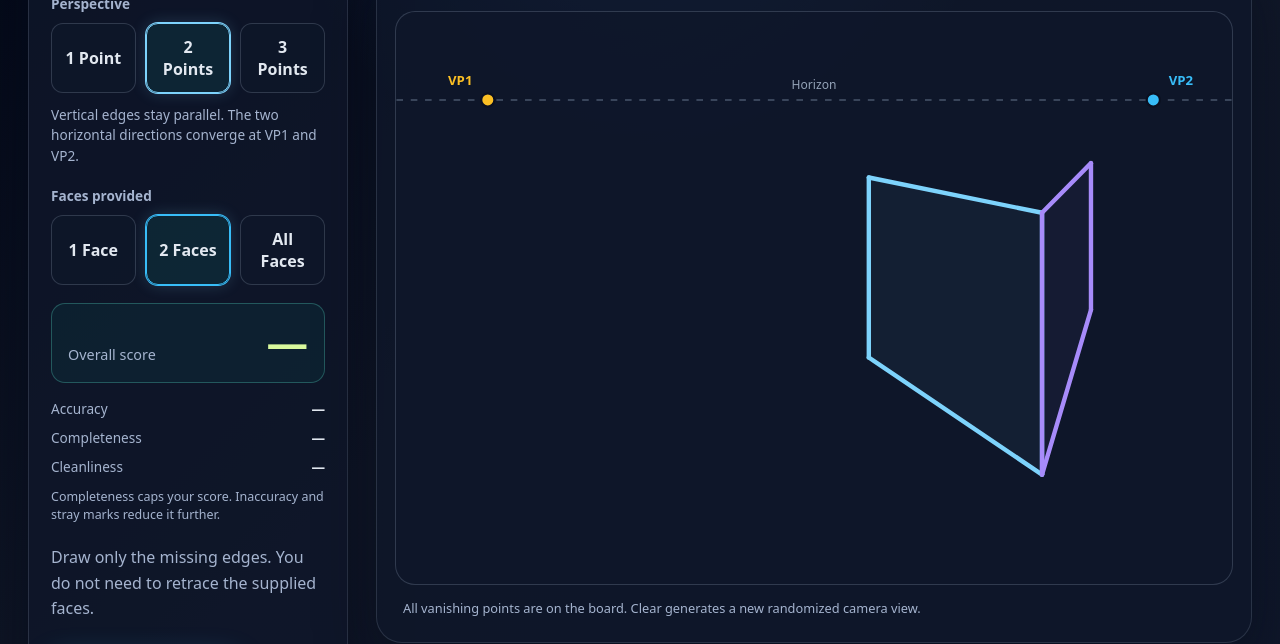
it: submission includes an in-progress stroke and locks the revealed attempt
(page scrolled)
Press the mouse on the drawing named "Drawing canvas" at (814, 298), box [396,12,1232,584]
Press the mouse on the drawing named "Drawing canvas" at (814, 298), box [396,12,1232,584]
(page scrolled)
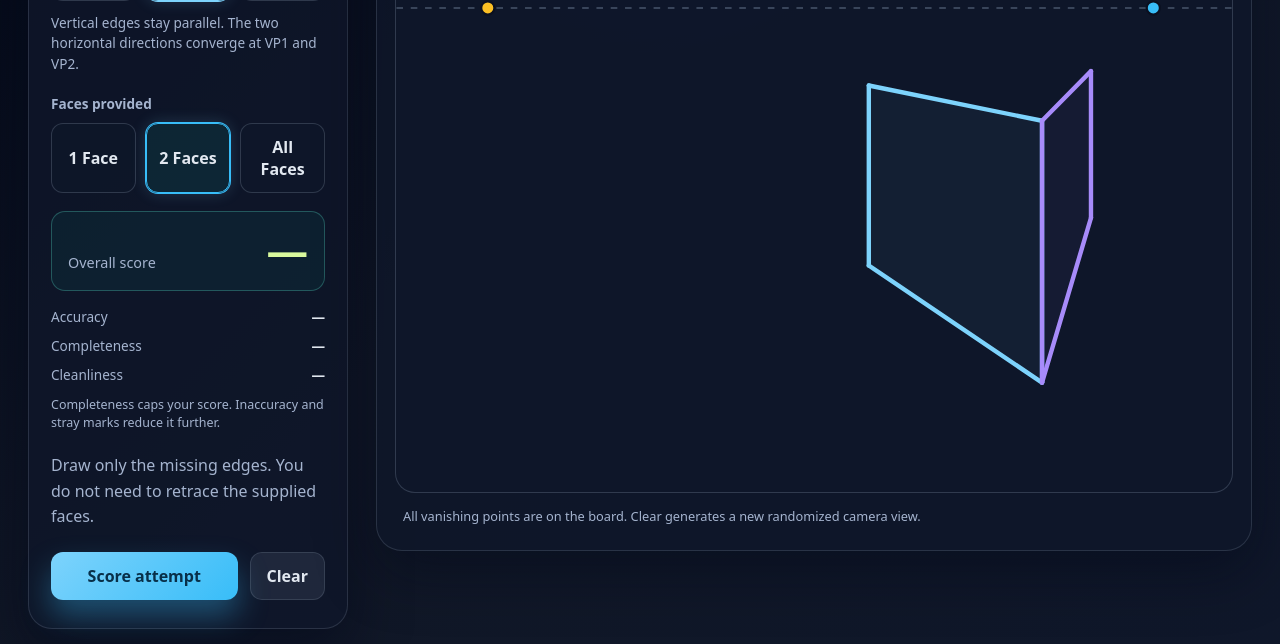
Click the button "Score attempt".
click(144, 576)  # box [51,552,238,600]
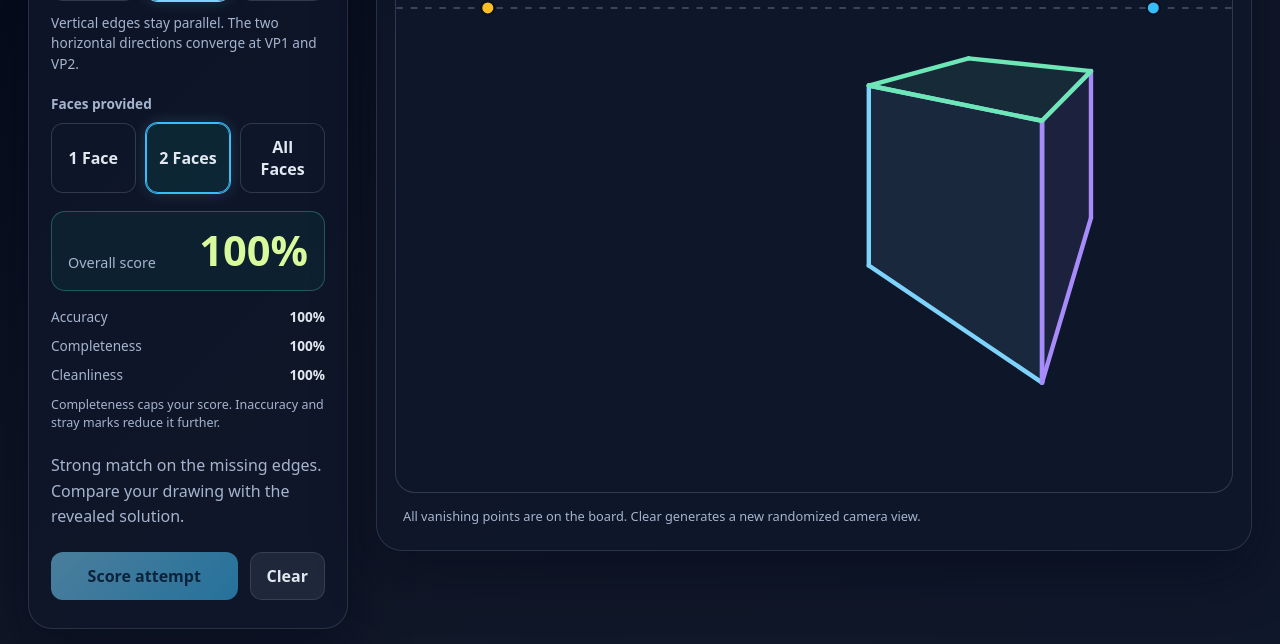
Now the text named "Overall score" reads "100%", box [199,222,308,278]
Now the button "Score attempt" is disabled, box [51,552,238,600]
Click the button "Clear".
click(287, 576)  # box [250,552,325,600]
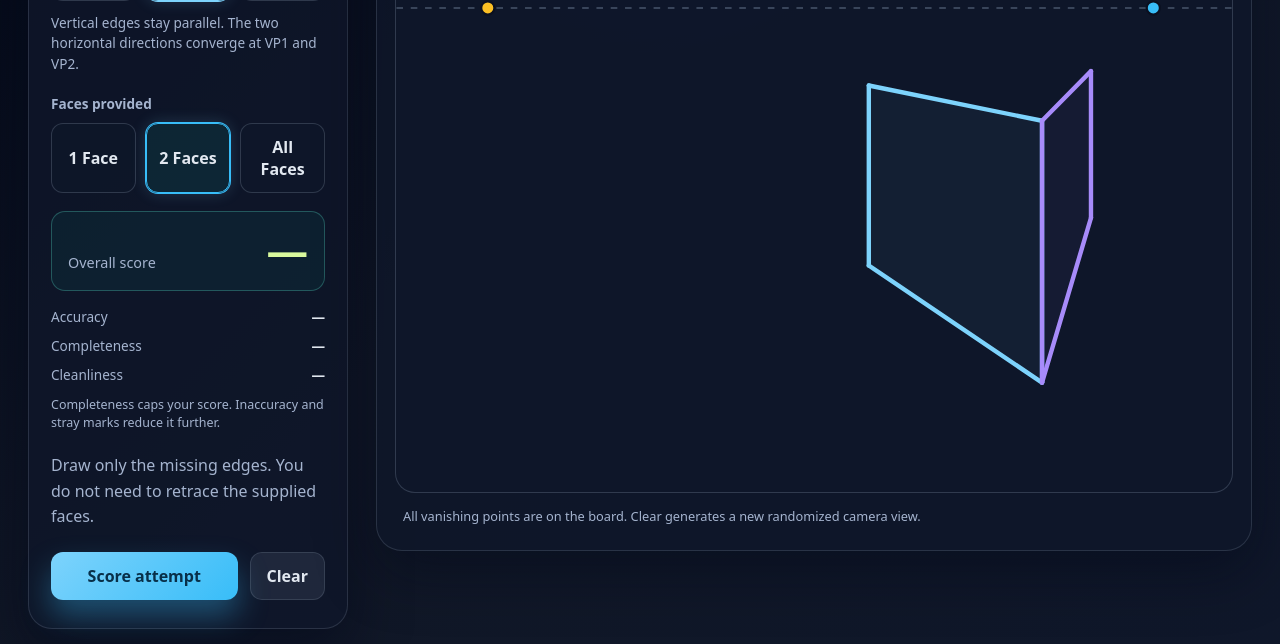
Click the button "Score attempt".
click(144, 576)  # box [51,552,238,600]
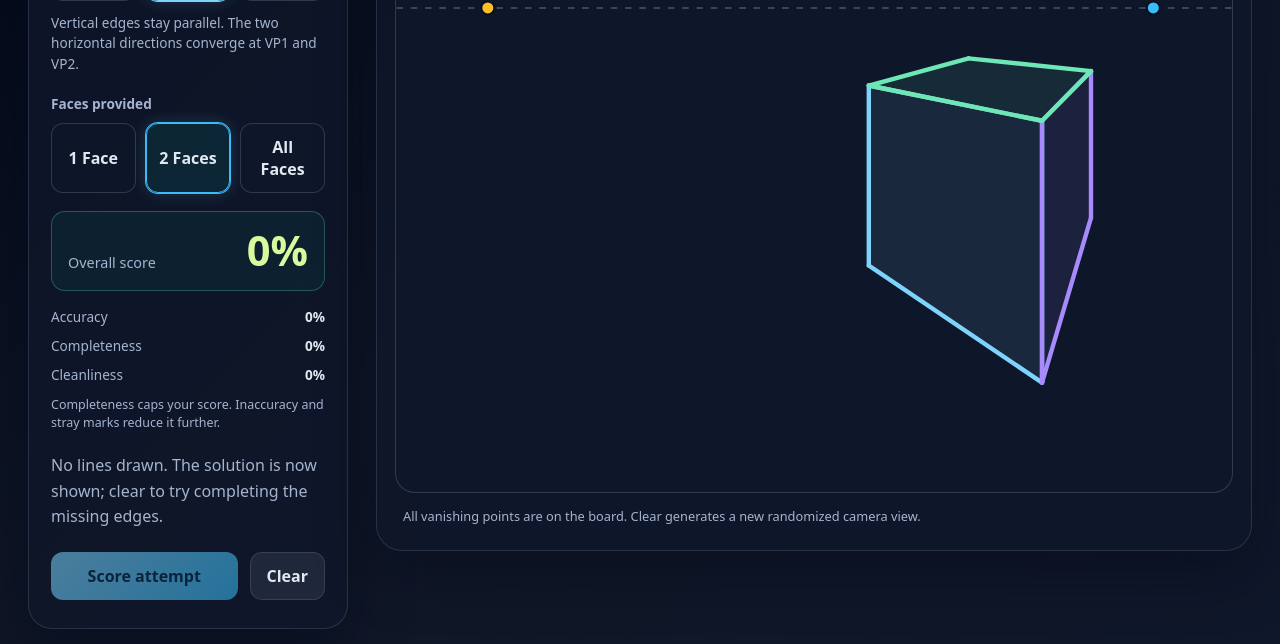
Now the text named "Overall score" reads "0%", box [247,222,308,278]
